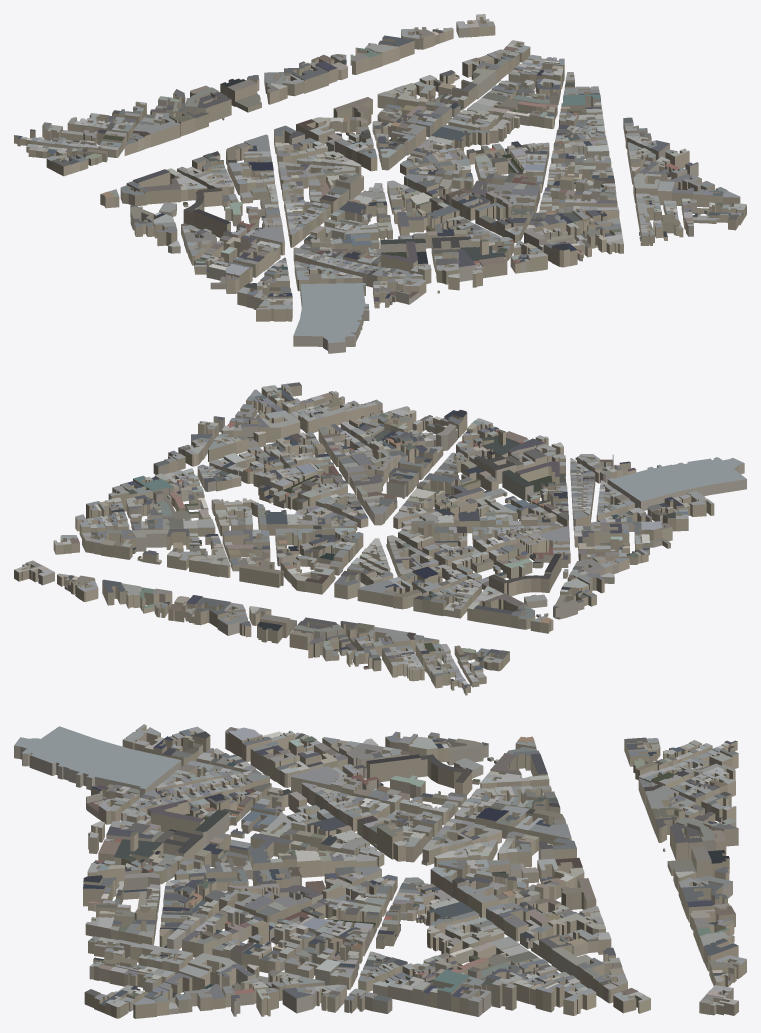
3 renders of one model, top to bottom at view 1: azimuth 30°, elevation 25°; view 2: azimuth 150°, elevation 25°; view 3: azimuth 270°, elevation 25°, orthographic. The views are drawn at different scales.
Visible parts, largest first — view 1: tuile; view 2: tuile; view 3: tuile.
Boxes of the visible parts, left/top/right/bottom form: tuile: left=14, top=14, right=746, bottom=353; tuile: left=14, top=382, right=746, bottom=695; tuile: left=14, top=724, right=746, bottom=1018.
Size of the model in its own units: 1038 by 75.86 by 1147.
